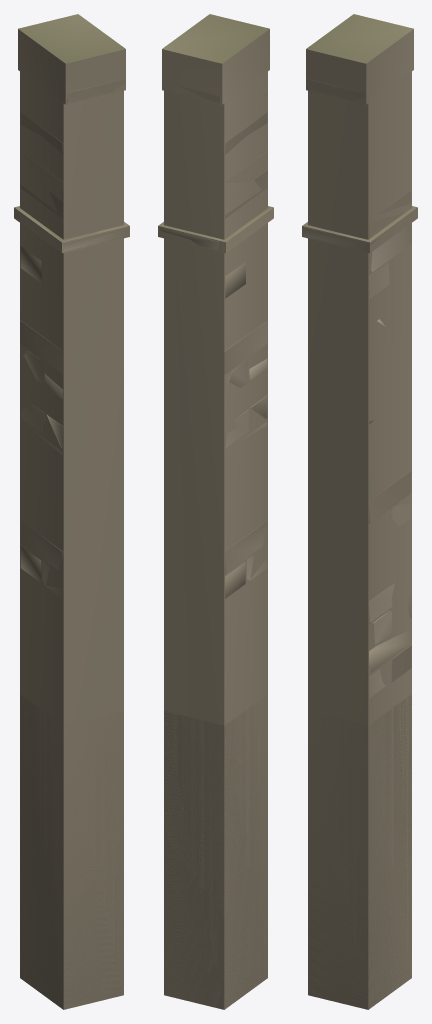
File: aqueduct_pier.glb
The picture shows the model from 3 angles, left to right: view 1: azimuth 30°, elevation 25°; view 2: azimuth 150°, elevation 25°; view 3: azimuth 330°, elevation 25°; orthographic projection.
Visible parts, largest first — view 1: aqueduct_pier_far, aqueduct_pier; view 2: aqueduct_pier_far, aqueduct_pier; view 3: aqueduct_pier_far, aqueduct_pier.
Part boxes in pixels (box(x1,y1,x2,y2)): aqueduct_pier_far: box(14, 14, 129, 1009); aqueduct_pier: box(20, 79, 128, 1009); aqueduct_pier_far: box(158, 14, 273, 1009); aqueduct_pier: box(159, 85, 271, 1009); aqueduct_pier_far: box(302, 14, 417, 1008); aqueduct_pier: box(303, 79, 417, 1009).
Size of the model in its own units: 4.51 by 60 by 5.52.
